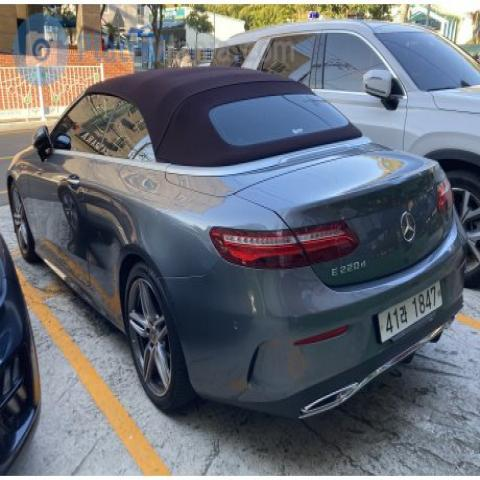LP: (364, 270, 450, 360)
